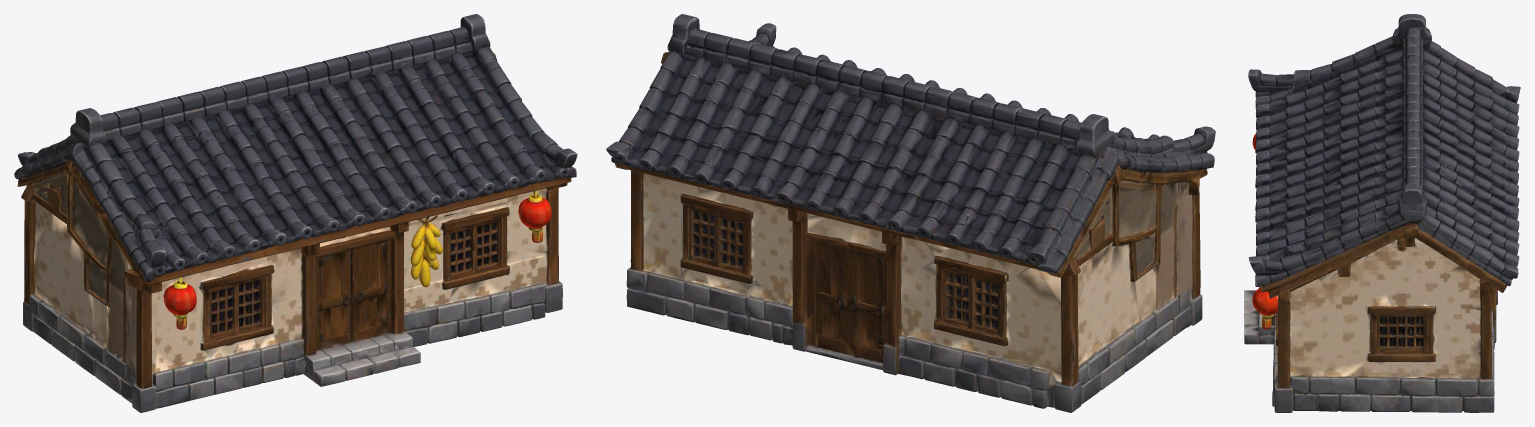
The model's file is bq_farmhouse.glb.
The picture shows the model from 3 angles, left to right: view 1: azimuth 30°, elevation 25°; view 2: azimuth 150°, elevation 25°; view 3: azimuth 270°, elevation 25°; orthographic projection. The views are drawn at different scales.
Size of the model in its own units: 1.92 by 1.03 by 1.16.
Materials: 1 (1 with a texture image).
